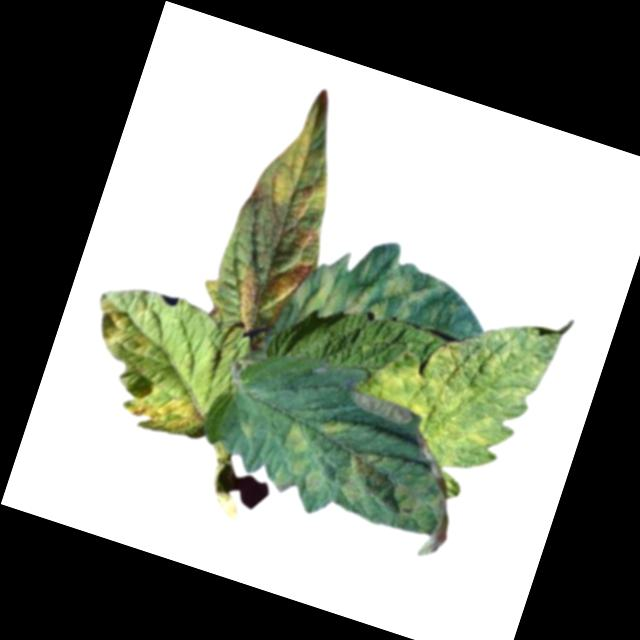Leaf_Mold: (196, 73, 368, 345), (364, 282, 565, 481), (261, 404, 468, 546), (52, 288, 232, 445), (295, 237, 434, 348)
